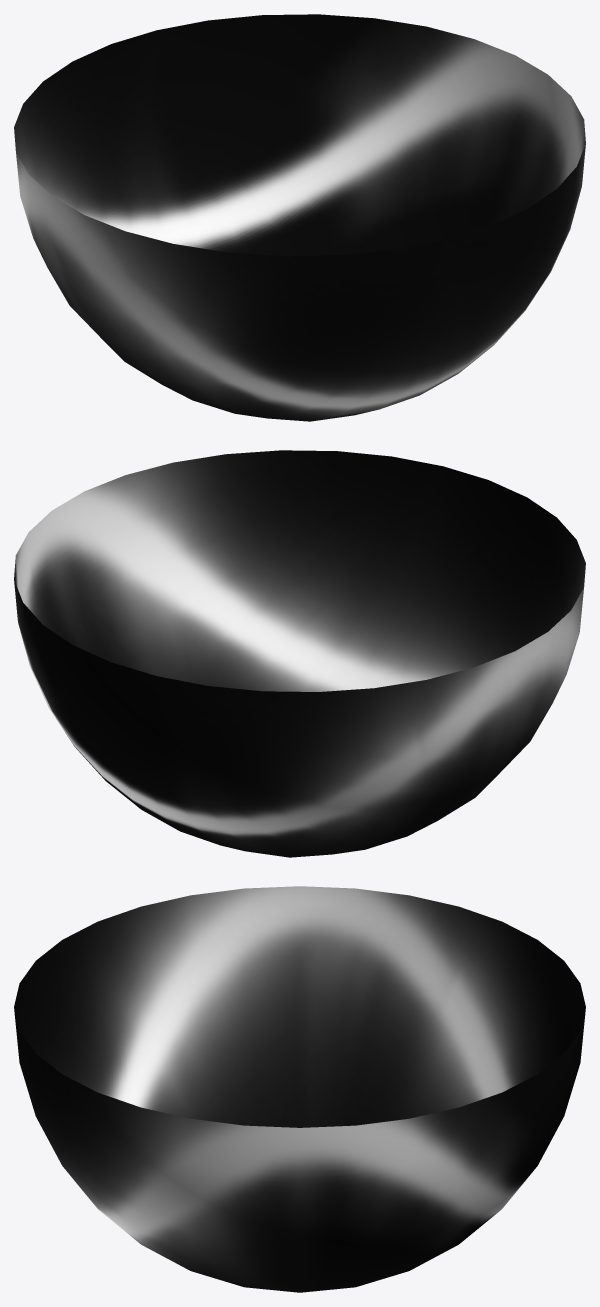
The model's file is HemiSphere.fbx.
3 renders of one model, top to bottom at view 1: azimuth 30°, elevation 25°; view 2: azimuth 150°, elevation 25°; view 3: azimuth 270°, elevation 25°, orthographic.
Parts seen in each view (by area): view 1: Sphere001; view 2: Sphere001; view 3: Sphere001.
Boxes of the visible parts, left/top/right/bottom form: Sphere001: left=14, top=14, right=585, bottom=421; Sphere001: left=14, top=450, right=585, bottom=857; Sphere001: left=14, top=886, right=585, bottom=1292.
Size of the model in its own units: 64.56 by 32.28 by 64.56.
1 material, 1 textured.
